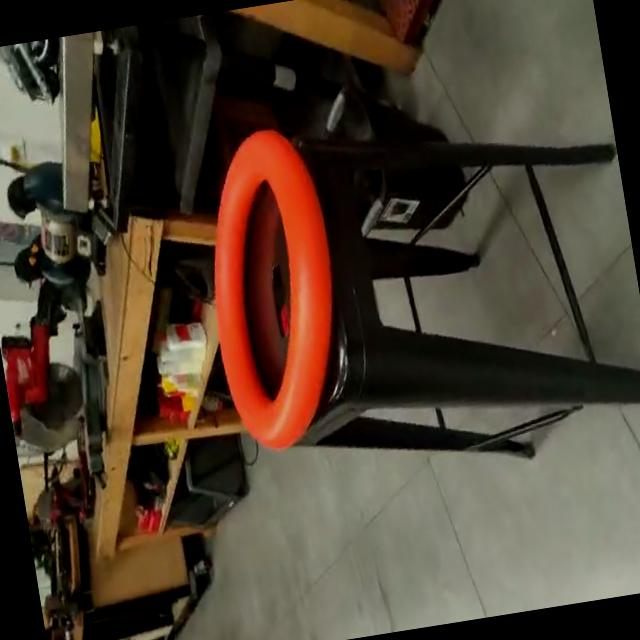note: (184, 115, 368, 466)
